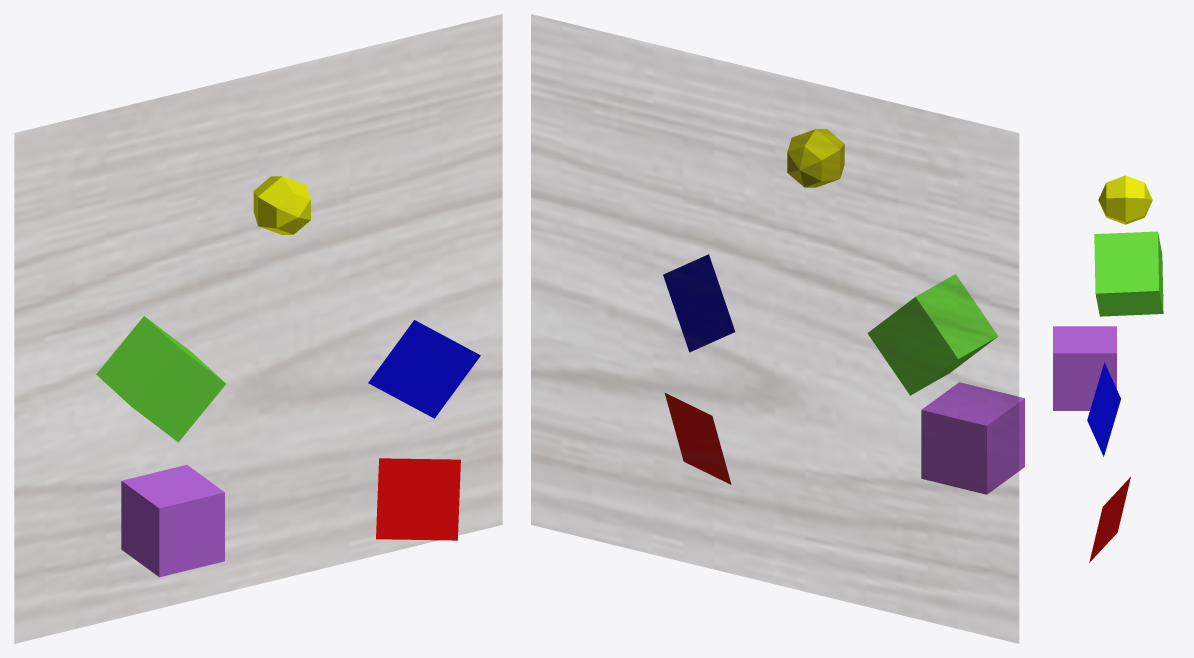
File: walnut2.glb
3 renders of one model, left to right at view 1: azimuth 30°, elevation 25°; view 2: azimuth 150°, elevation 25°; view 3: azimuth 270°, elevation 25°, orthographic. The views are drawn at different scales.
Visible parts, largest first — view 1: walnut, Cube, Cube.001, Plane.001, Plane.002, Sphere; view 2: walnut, Cube, Cube.001, Plane.002, Plane.001, Sphere; view 3: Cube.001, Cube, Sphere, Plane.002, Plane.001.
Part boxes in pixels (bbox=[...]): walnut: bbox=[14, 14, 502, 643]; Cube: bbox=[121, 465, 224, 577]; Cube.001: bbox=[96, 316, 225, 442]; Plane.001: bbox=[376, 458, 460, 540]; Plane.002: bbox=[368, 320, 480, 418]; Sphere: bbox=[253, 176, 310, 234]; walnut: bbox=[531, 14, 1018, 643]; Cube: bbox=[921, 382, 1024, 494]; Cube.001: bbox=[867, 274, 998, 395]; Plane.002: bbox=[663, 254, 735, 352]; Plane.001: bbox=[665, 393, 731, 484]; Sphere: bbox=[787, 129, 844, 187]; Cube.001: bbox=[1094, 231, 1163, 316]; Cube: bbox=[1053, 326, 1116, 410]; Sphere: bbox=[1098, 175, 1152, 224]; Plane.002: bbox=[1087, 362, 1120, 456]; Plane.001: bbox=[1089, 477, 1130, 562].
Bounding box in the file's own units: 10.02 × 10.02 × 2.68.
6 materials, 1 textured.
